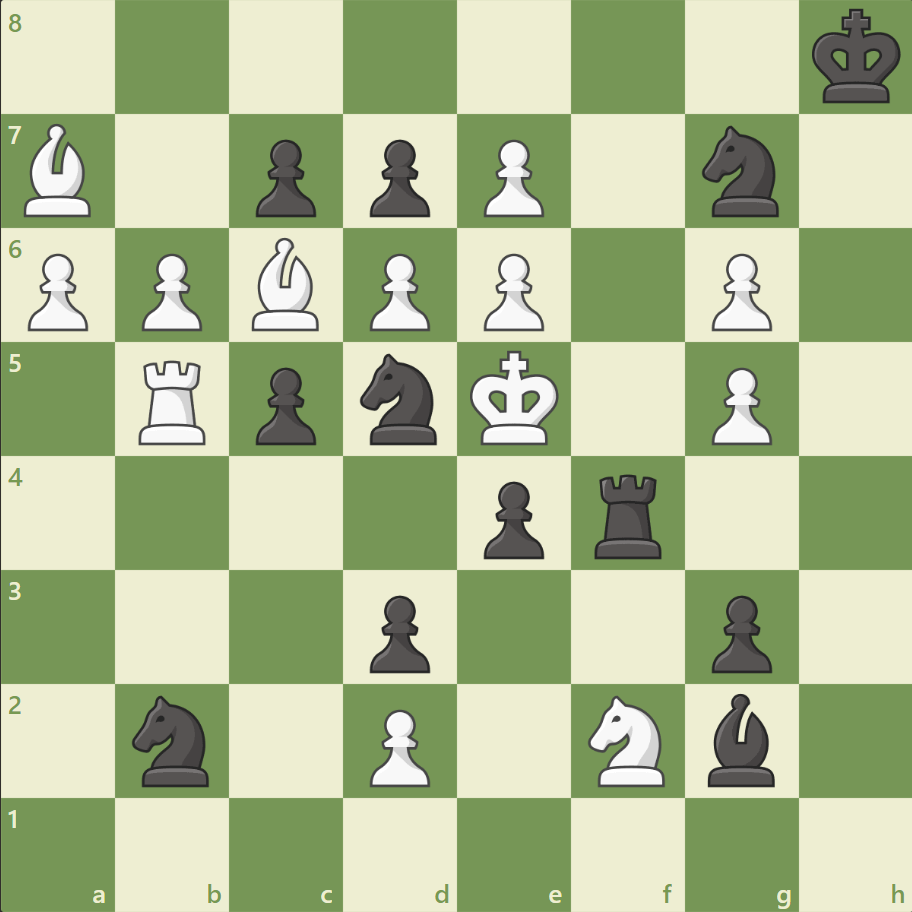B: (244, 233, 328, 336), (17, 120, 101, 222)
K: (465, 344, 565, 452)
N: (579, 688, 676, 791)
P: (474, 132, 549, 223), (20, 246, 95, 337), (133, 246, 208, 337), (474, 246, 549, 337), (701, 246, 776, 337), (701, 359, 776, 450), (361, 246, 435, 337), (361, 700, 435, 791)
R: (133, 352, 215, 449)
b: (698, 687, 782, 790)
k: (806, 4, 906, 112)
n: (124, 688, 222, 791), (351, 348, 449, 450), (692, 121, 789, 223)
p: (247, 132, 322, 223), (247, 359, 322, 450), (474, 473, 549, 564), (701, 586, 776, 677), (361, 132, 435, 223), (361, 586, 435, 677)
r: (587, 466, 670, 563)
